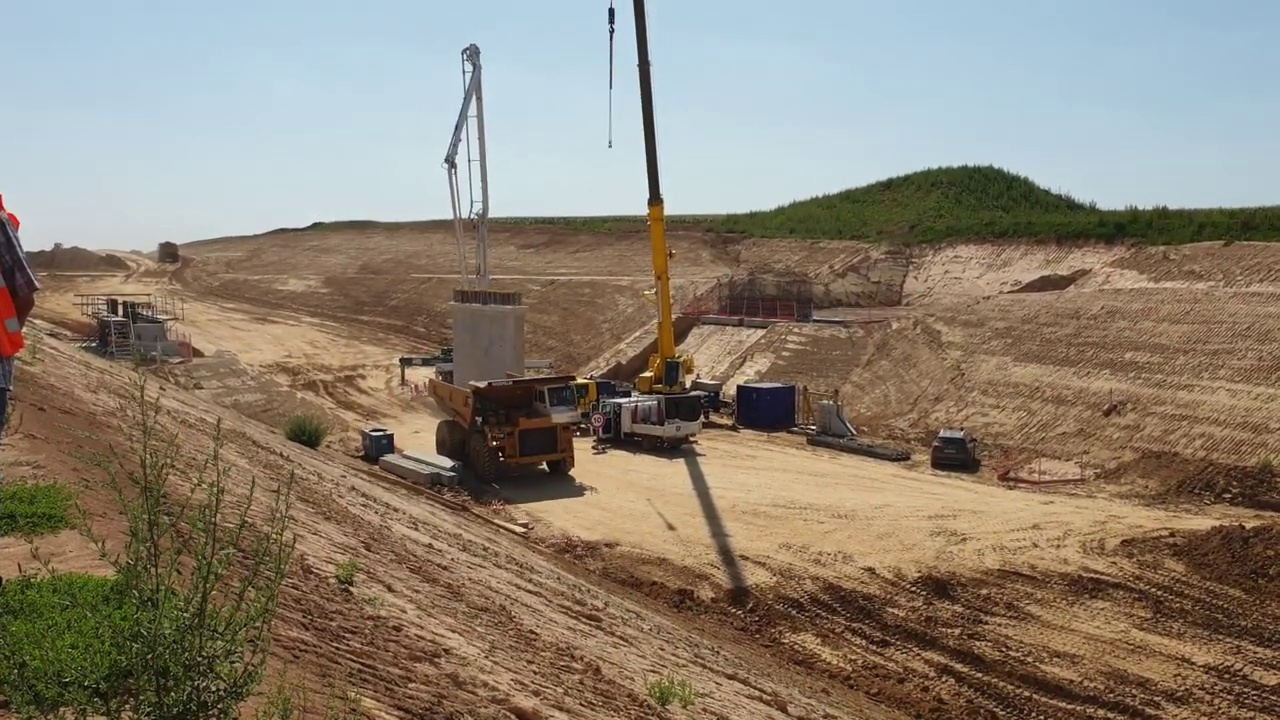crane: (574, 1, 711, 457)
truck: (425, 369, 585, 498)
